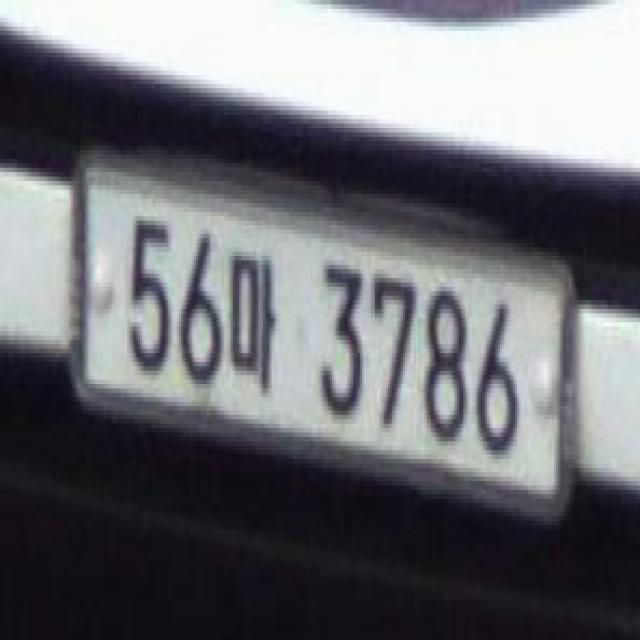illegal_plate: (78, 147, 572, 527)
